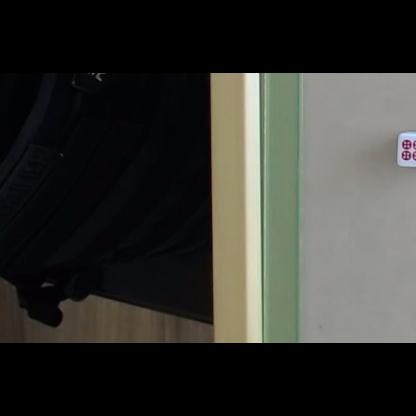6p: (401, 139, 416, 161)
